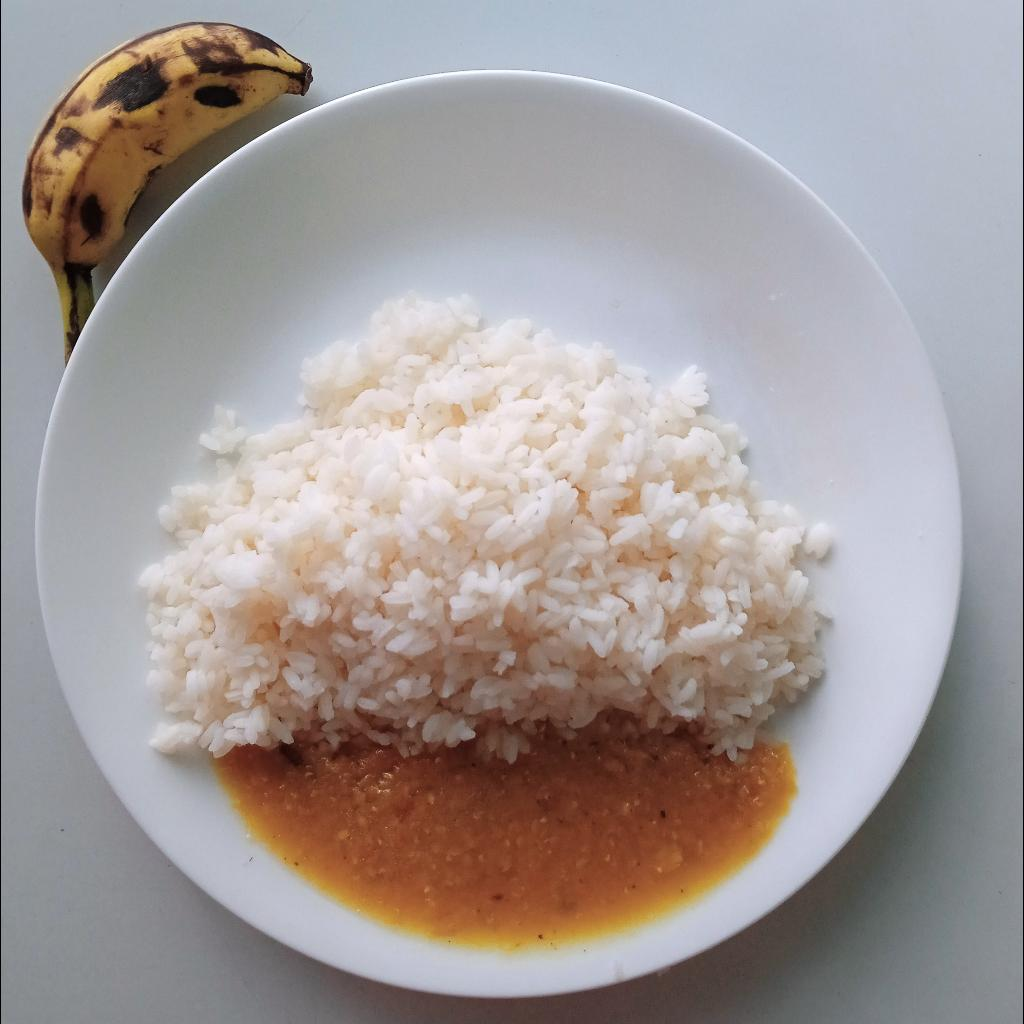banana: (23, 23, 314, 360)
daal: (217, 717, 793, 946)
rice: (136, 299, 838, 755)
